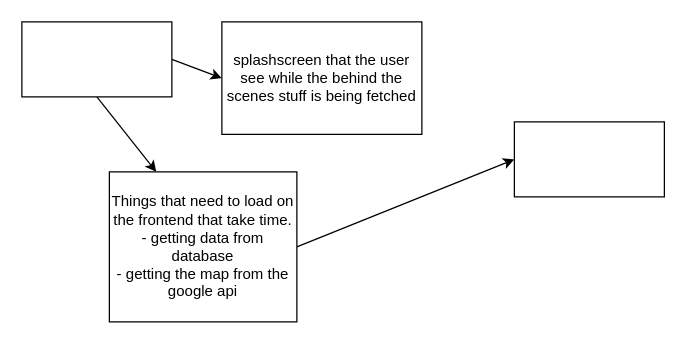
Image size: 686x344. Some labels were removed from this diagram. Here are the shapes that lost their labels. From the top down, the box of each, then its label:
(21, 21, 172, 97): user opens site
(513, 121, 664, 197): server runs 24/7
